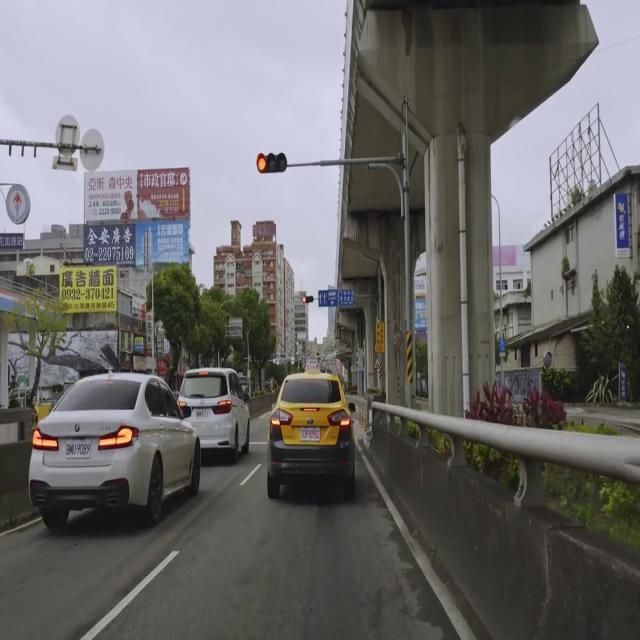red light: (256, 154, 287, 174), (302, 296, 314, 304)
